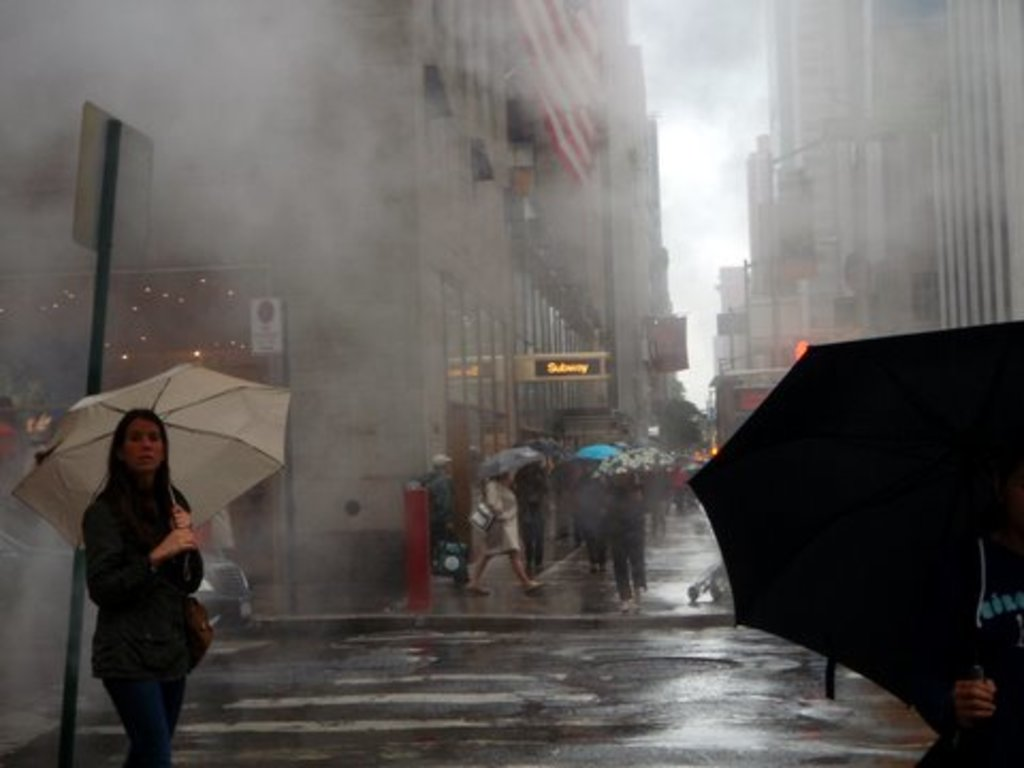Person: (80, 407, 1024, 768)
